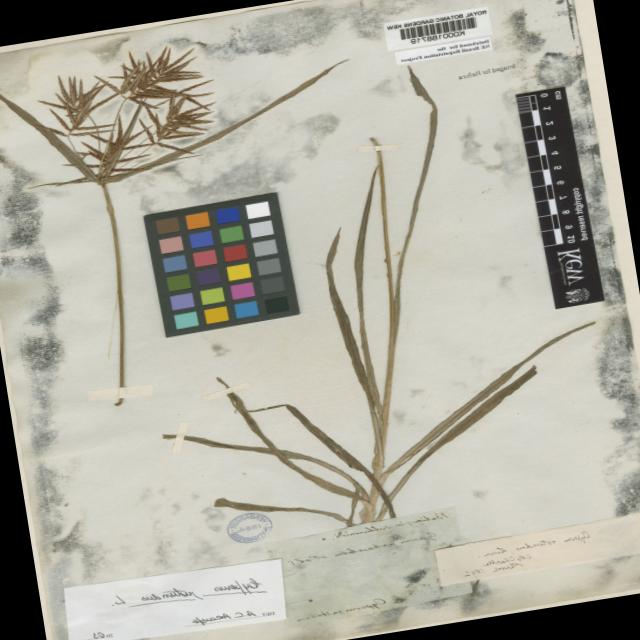cyperus: (29, 40, 238, 193)
